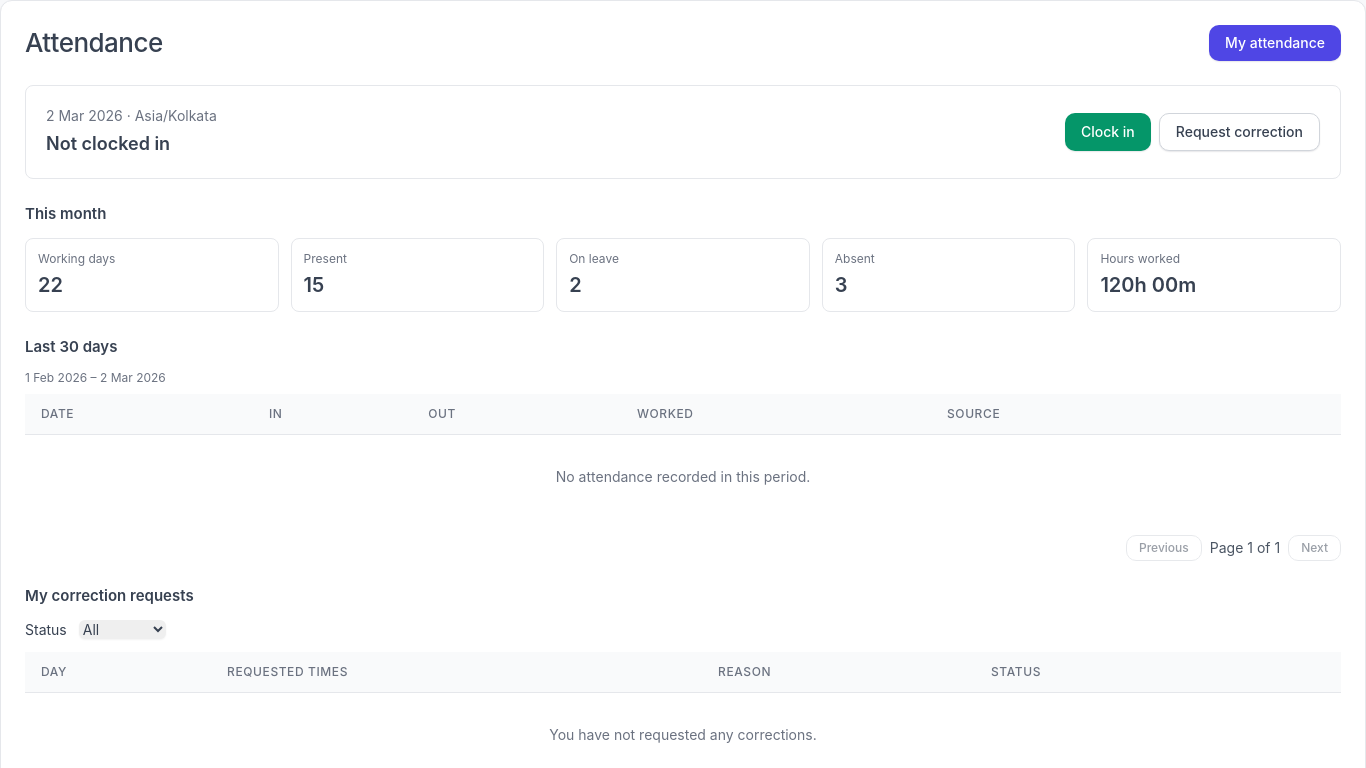
Test: Attendance page › clocking › clocks in, then shows the running status with the time in the organization timezone
The width and height of the screenshot is (1366, 768).
Expected: the text "Not clocked in" is shown, [46,133,170,154]
Click the button "Clock in": {"x": 1108, "y": 132} [1065,113,1151,151]
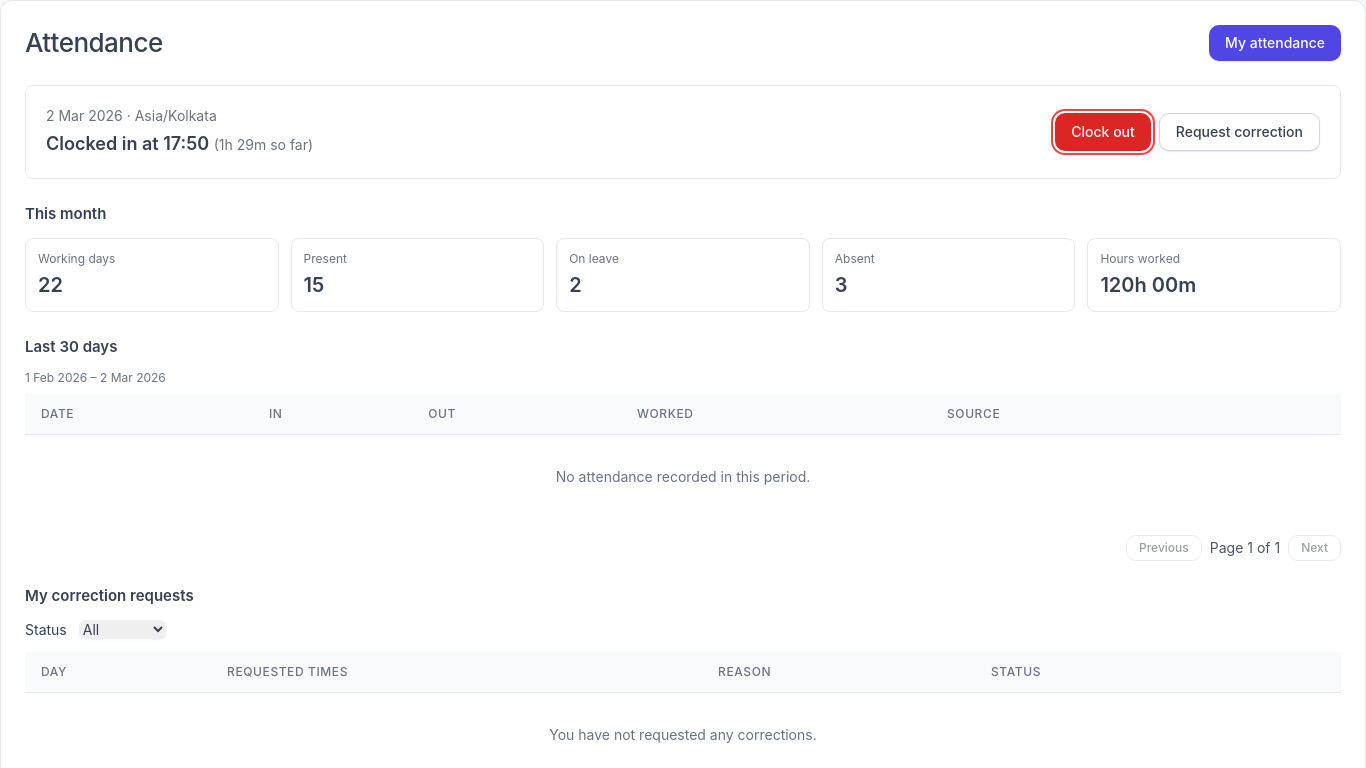
Expected: the text "Clocked in at 17:50 (1h 29m so far)" is shown, [46,130,313,158]
Expected: the text "(1h 29m so far)" is shown, [214,136,313,153]
Expected: the button "Clock out" is shown, [1055,113,1151,151]
